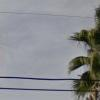Palm tree: (66, 6, 100, 100)
